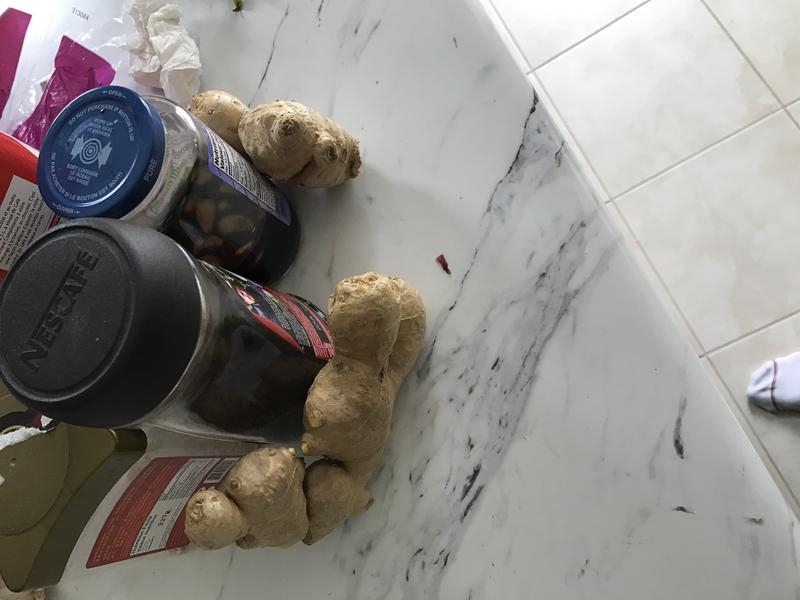ginger: (174, 260, 429, 558), (183, 84, 373, 203)
